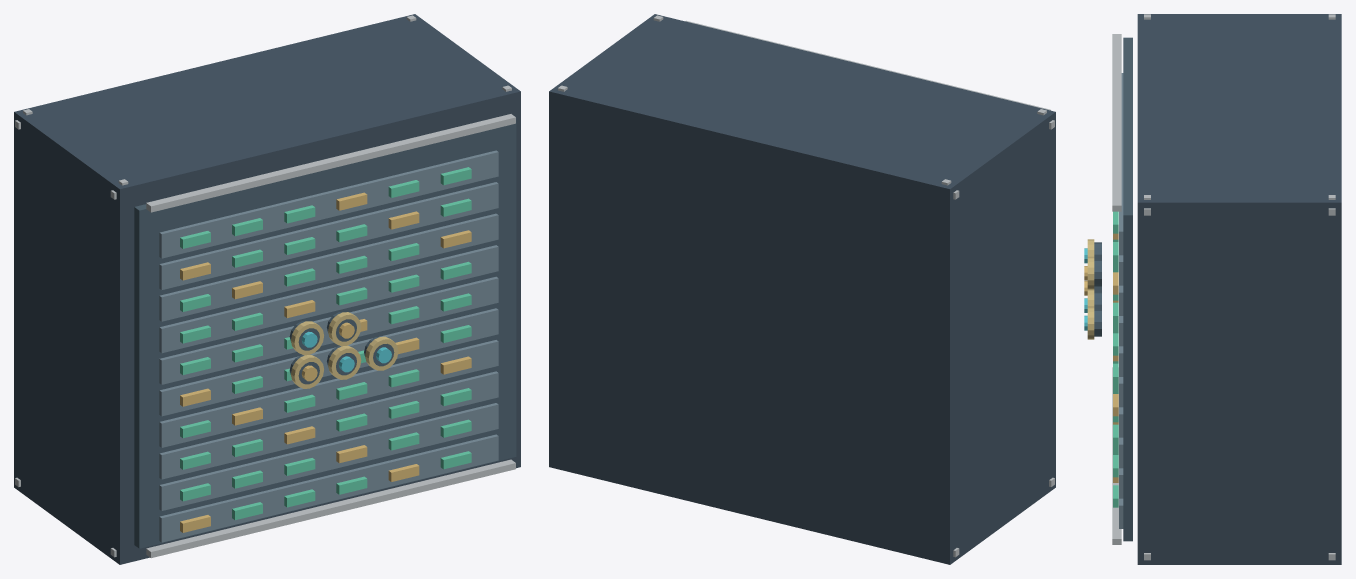
File: 57_L81_ProtectedPowerDistributionCabinet.glb
3 views of the same model, side by side, from view 1: azimuth 30°, elevation 25°; view 2: azimuth 150°, elevation 25°; view 3: azimuth 270°, elevation 25° (orthographic). The views are drawn at different scales.
Visible parts, largest first — view 1: ProtectedPowerDistributionCabinet_Node_0000, ProtectedPowerDistributionCabinet_Node_0009, ProtectedPowerDistributionCabinet_Node_0010, ProtectedPowerDistributionCabinet_Node_0017, ProtectedPowerDistributionCabinet_Node_0059, ProtectedPowerDistributionCabinet_Node_0066, ProtectedPowerDistributionCabinet_Node_0052, ProtectedPowerDistributionCabinet_Node_0024, ProtectedPowerDistributionCabinet_Node_0073, ProtectedPowerDistributionCabinet_Node_0031, ProtectedPowerDistributionCabinet_Node_0045, ProtectedPowerDistributionCabinet_Node_0038 (+2 smaller); view 2: ProtectedPowerDistributionCabinet_Node_0000; view 3: ProtectedPowerDistributionCabinet_Node_0000, ProtectedPowerDistributionCabinet_Node_0009, ProtectedPowerDistributionCabinet_Node_0081, ProtectedPowerDistributionCabinet_Node_0073, ProtectedPowerDistributionCabinet_Node_0080.
Boxes of the visible parts, left/top/right/bottom form: ProtectedPowerDistributionCabinet_Node_0000: left=14, top=14, right=520, bottom=564; ProtectedPowerDistributionCabinet_Node_0009: left=134, top=118, right=516, bottom=548; ProtectedPowerDistributionCabinet_Node_0010: left=159, top=434, right=498, bottom=542; ProtectedPowerDistributionCabinet_Node_0017: left=159, top=403, right=498, bottom=510; ProtectedPowerDistributionCabinet_Node_0059: left=159, top=213, right=498, bottom=321; ProtectedPowerDistributionCabinet_Node_0066: left=159, top=182, right=498, bottom=289; ProtectedPowerDistributionCabinet_Node_0052: left=159, top=245, right=498, bottom=353; ProtectedPowerDistributionCabinet_Node_0024: left=159, top=371, right=498, bottom=479; ProtectedPowerDistributionCabinet_Node_0073: left=159, top=150, right=498, bottom=258; ProtectedPowerDistributionCabinet_Node_0031: left=159, top=340, right=498, bottom=447; ProtectedPowerDistributionCabinet_Node_0045: left=159, top=276, right=498, bottom=384; ProtectedPowerDistributionCabinet_Node_0038: left=159, top=308, right=498, bottom=416; ProtectedPowerDistributionCabinet_Node_0000: left=549, top=14, right=1055, bottom=564; ProtectedPowerDistributionCabinet_Node_0000: left=1137, top=14, right=1341, bottom=564; ProtectedPowerDistributionCabinet_Node_0009: left=1123, top=37, right=1132, bottom=541; ProtectedPowerDistributionCabinet_Node_0081: left=1112, top=34, right=1121, bottom=211; ProtectedPowerDistributionCabinet_Node_0073: left=1119, top=73, right=1123, bottom=255; ProtectedPowerDistributionCabinet_Node_0080: left=1112, top=367, right=1121, bottom=544.
Bounding box in the file's own units: 1.64 × 1.47 × 0.9345.
